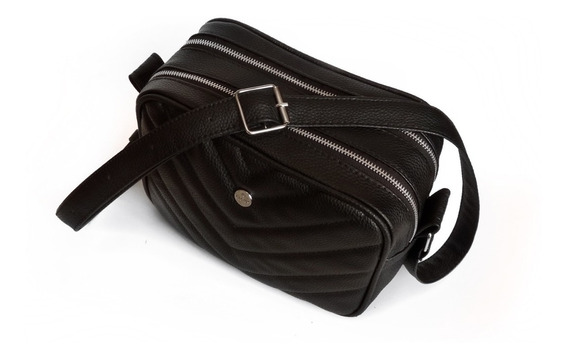cartera: (131, 16, 481, 317)
